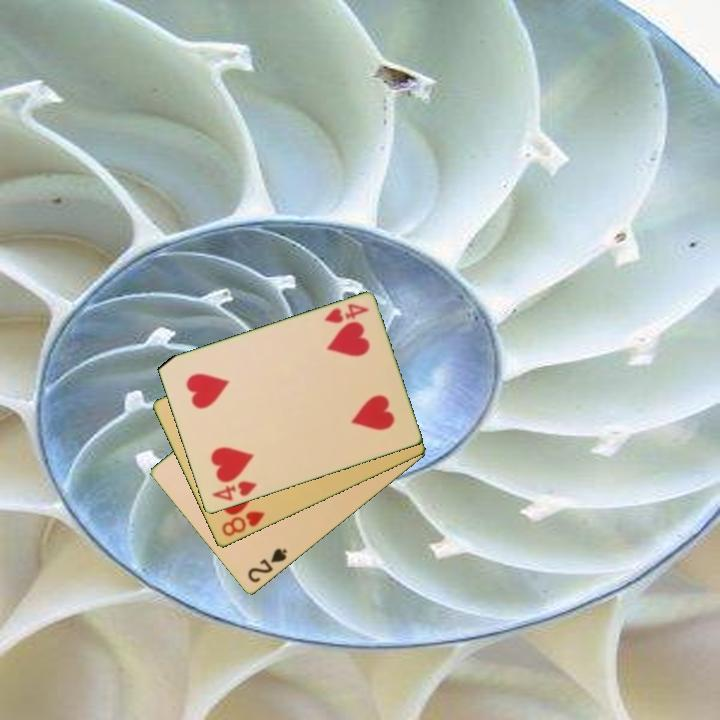2s: (244, 545, 290, 586)
4h: (320, 300, 372, 327), (208, 478, 259, 504)
8h: (218, 508, 268, 540)
